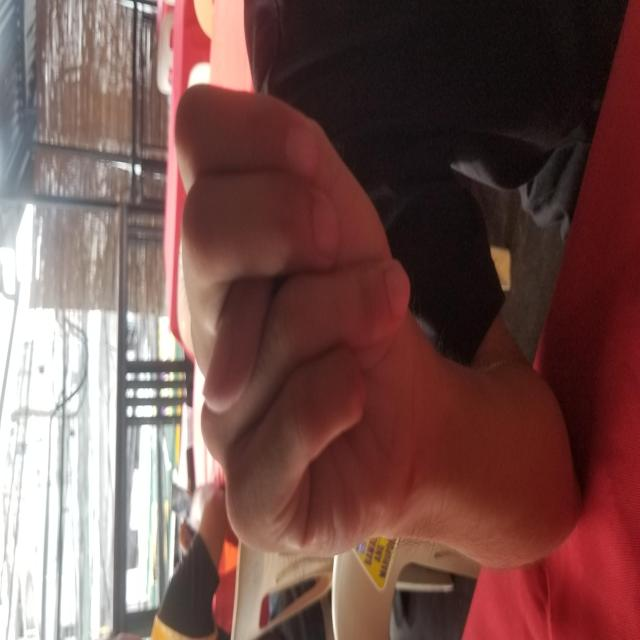N: (80, 172, 558, 416)
